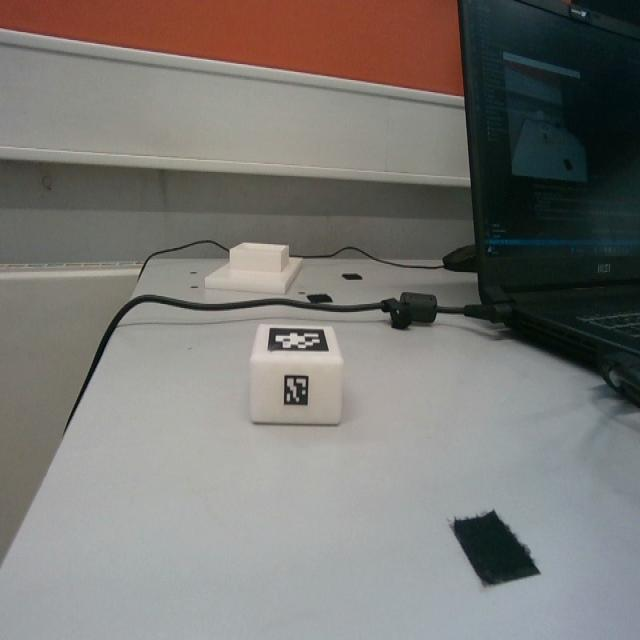Cube: (248, 321, 344, 424)
